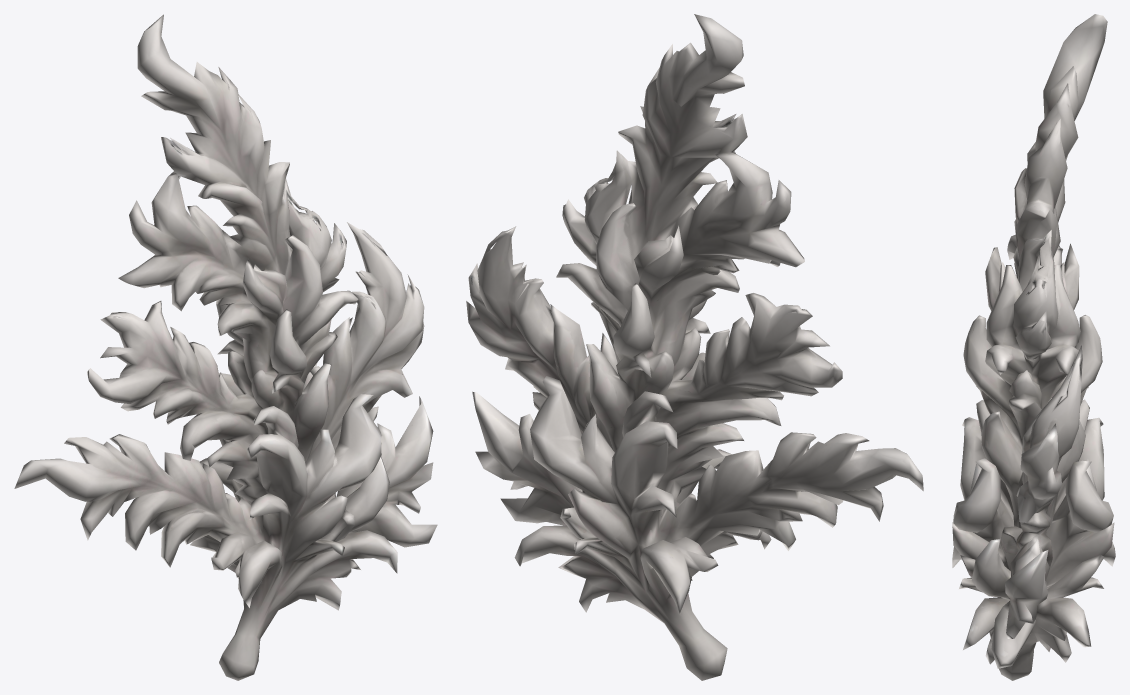
The model's file is gill_base2.glb.
3 views of the same model, side by side, from view 1: azimuth 30°, elevation 25°; view 2: azimuth 150°, elevation 25°; view 3: azimuth 270°, elevation 25° (orthographic). The views are drawn at different scales.
Parts seen in each view (by area): view 1: tripo_node_f524620e-0bea-4918-9402-92dac38fc90a; view 2: tripo_node_f524620e-0bea-4918-9402-92dac38fc90a; view 3: tripo_node_f524620e-0bea-4918-9402-92dac38fc90a.
Part boxes in pixels (x1,y1,x2,y2): tripo_node_f524620e-0bea-4918-9402-92dac38fc90a: [14, 14, 437, 680]; tripo_node_f524620e-0bea-4918-9402-92dac38fc90a: [466, 14, 923, 680]; tripo_node_f524620e-0bea-4918-9402-92dac38fc90a: [952, 14, 1115, 680].
Bounding box in the file's own units: 0.6614 × 0.9787 × 0.2251.
Materials: 1 (1 with a texture image).
